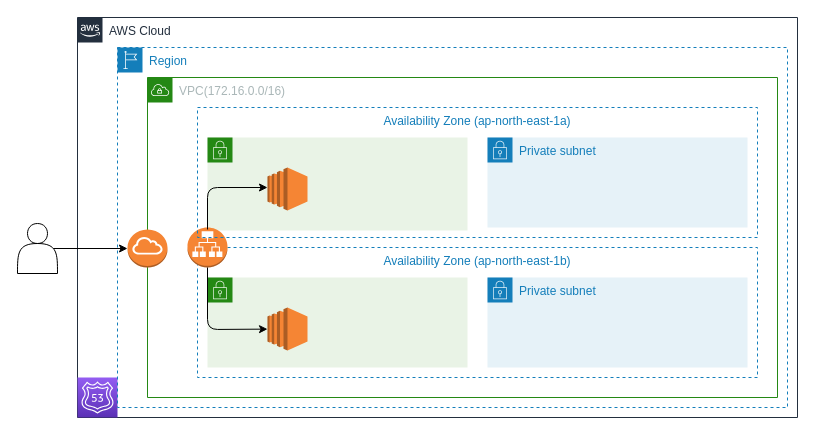
Image size: 815x435. Some labels were removed from this diagram. Each missing label, with the box of its shape:
Public subnet(172.16.1.0/24): (206, 136, 468, 230)
Public subnet(172.16.2.0/24): (206, 276, 468, 368)
